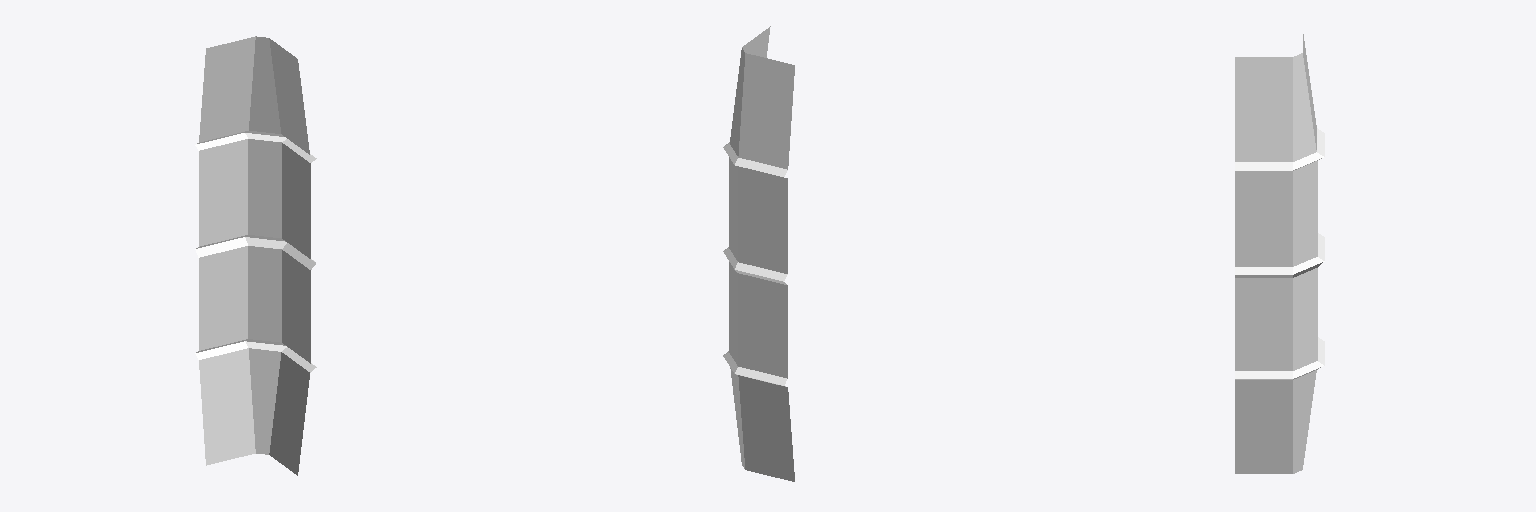
The model's file is Wall_Corner.obj.
The picture shows the model from 3 angles: view 1: azimuth 30°, elevation 25°; view 2: azimuth 150°, elevation 25°; view 3: azimuth 270°, elevation 25°; orthographic projection.
Parts seen in each view (by area): view 1: Wall_Corner; view 2: Wall_Corner; view 3: Wall_Corner.
Part boxes in pixels (left/top/right/bottom): Wall_Corner: left=195, top=36, right=316, bottom=475; Wall_Corner: left=723, top=26, right=794, bottom=481; Wall_Corner: left=1235, top=34, right=1324, bottom=473.
Size of the model in its own units: 0.7755 by 4 by 0.7755.